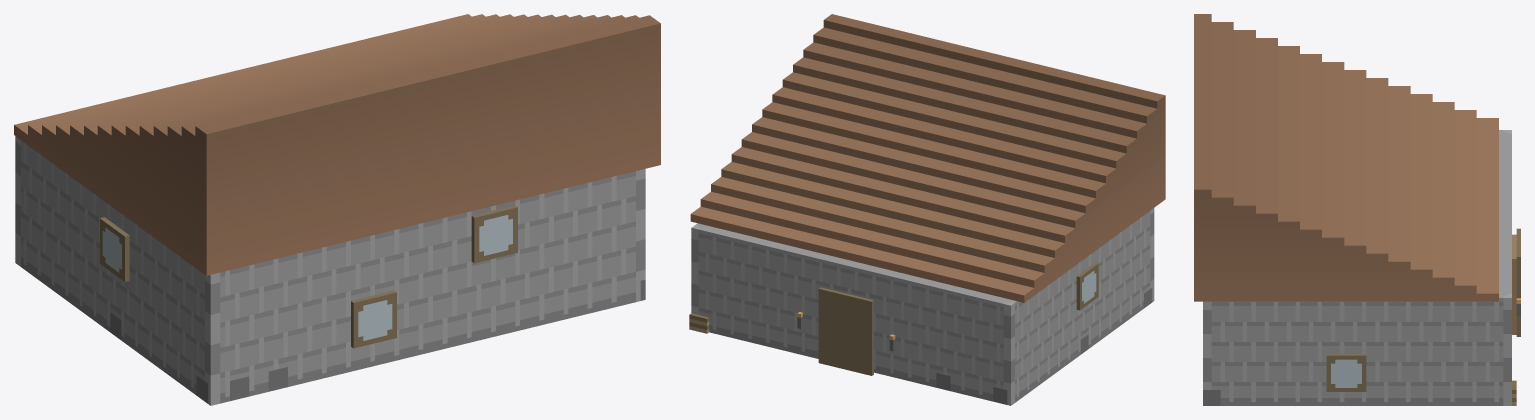
The model's file is molino_agua_01.glb.
3 renders of one model, left to right at view 1: azimuth 30°, elevation 25°; view 2: azimuth 150°, elevation 25°; view 3: azimuth 270°, elevation 25°, orthographic. The views are drawn at different scales.
Visible parts, largest first — view 1: molino_agua_01; view 2: molino_agua_01; view 3: molino_agua_01.
Part boxes in pixels (<box>): molino_agua_01: <box>14,14,660,405</box>; molino_agua_01: <box>689,14,1165,405</box>; molino_agua_01: <box>1194,14,1520,405</box>.
Bounding box in the file's own units: 9.4 × 5.5 × 7.4.
